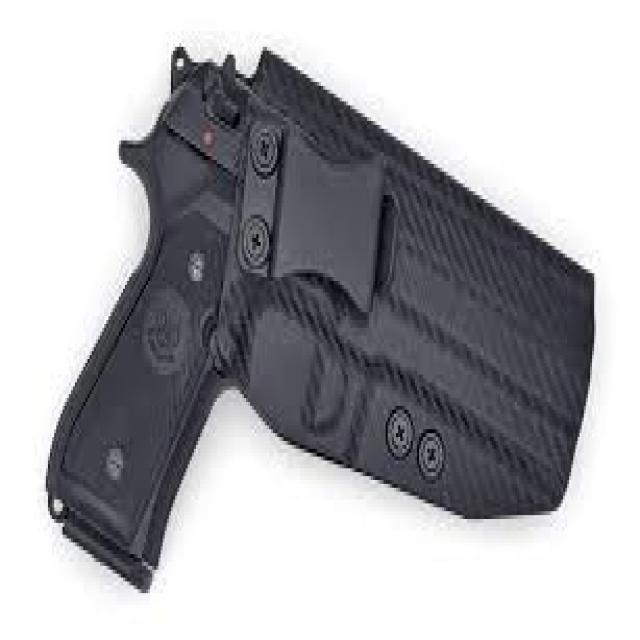pistol: (39, 26, 604, 605)
